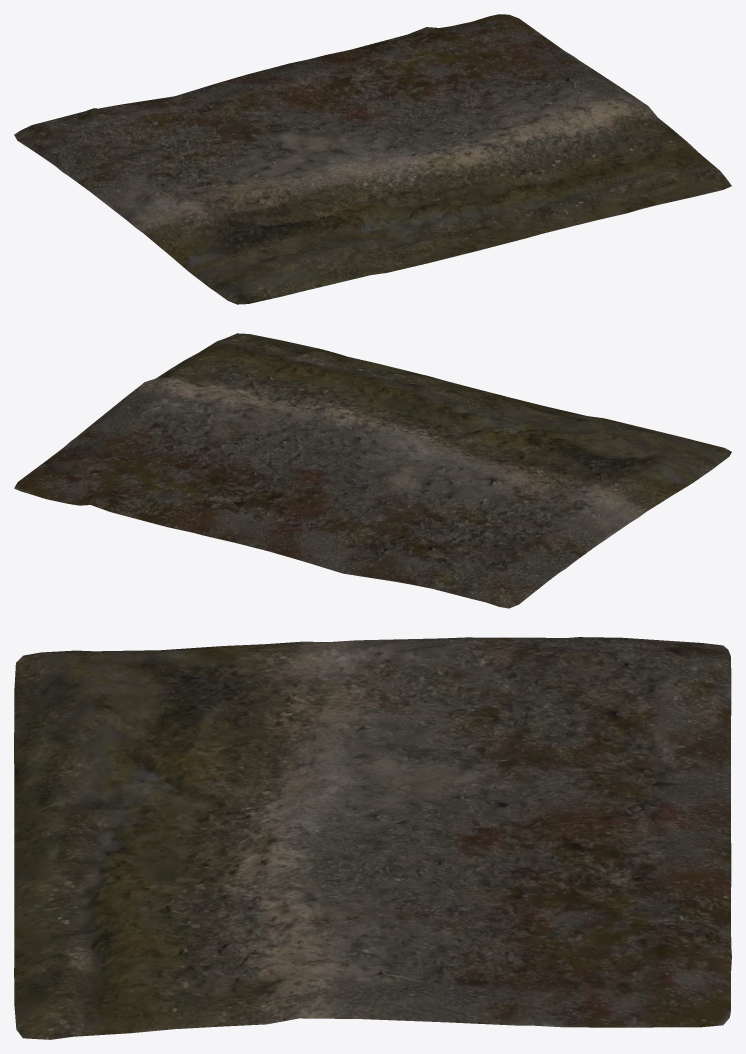
File: coast_line_01.glb
3 views of the same model, one above another, from view 1: azimuth 30°, elevation 25°; view 2: azimuth 150°, elevation 25°; view 3: azimuth 270°, elevation 25° (orthographic). The views are drawn at different scales.
Parts seen in each view (by area): view 1: coast_line_01; view 2: coast_line_01; view 3: coast_line_01.
Part boxes in pixels (<box>): coast_line_01: <box>14,14,731,304</box>; coast_line_01: <box>14,333,731,608</box>; coast_line_01: <box>14,637,731,1039</box>.
Size of the model in its own units: 54.61 by 2.6 by 42.96.
1 material, 1 textured.
